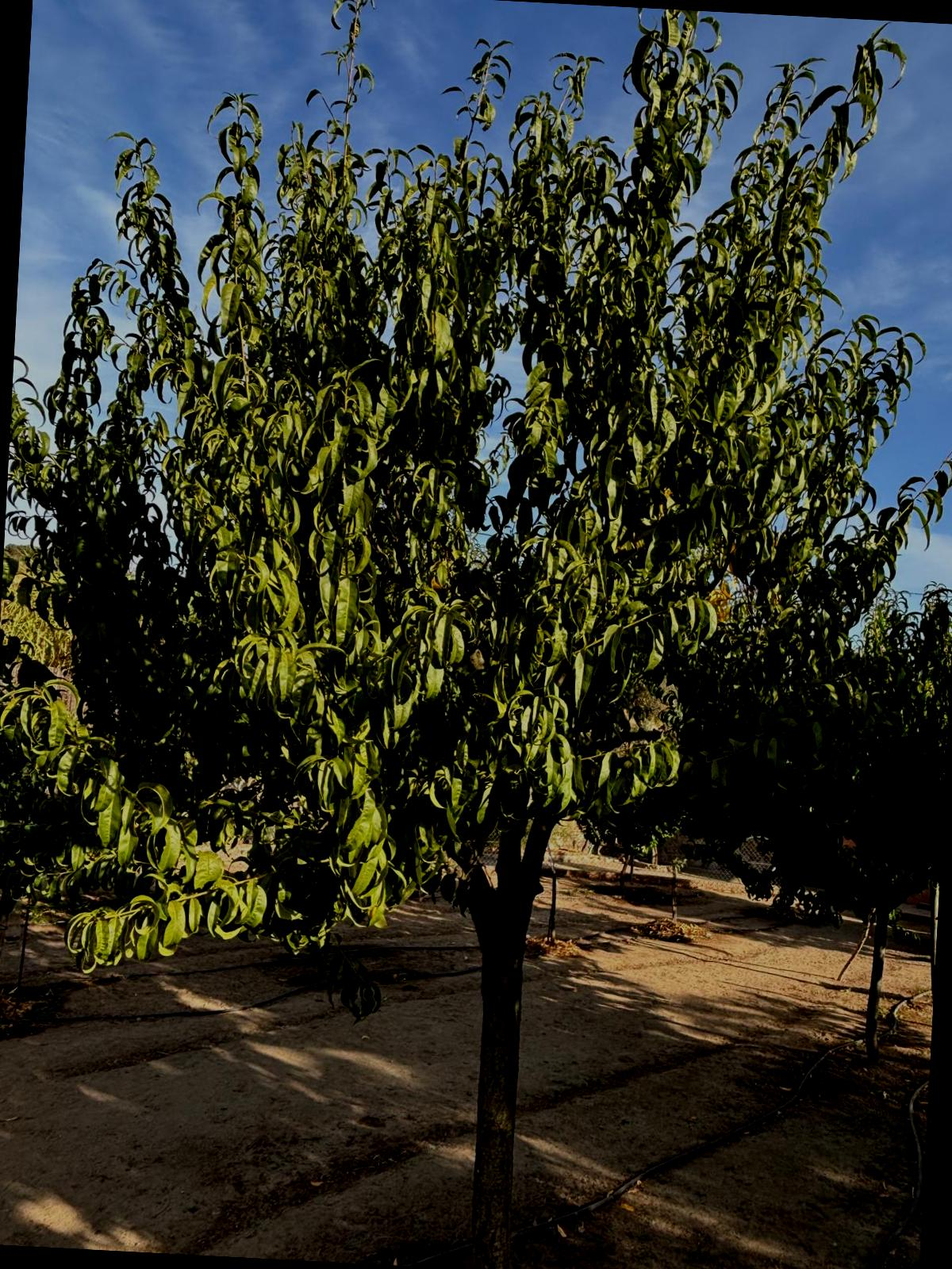melocotonero: (81, 181, 896, 1269)
